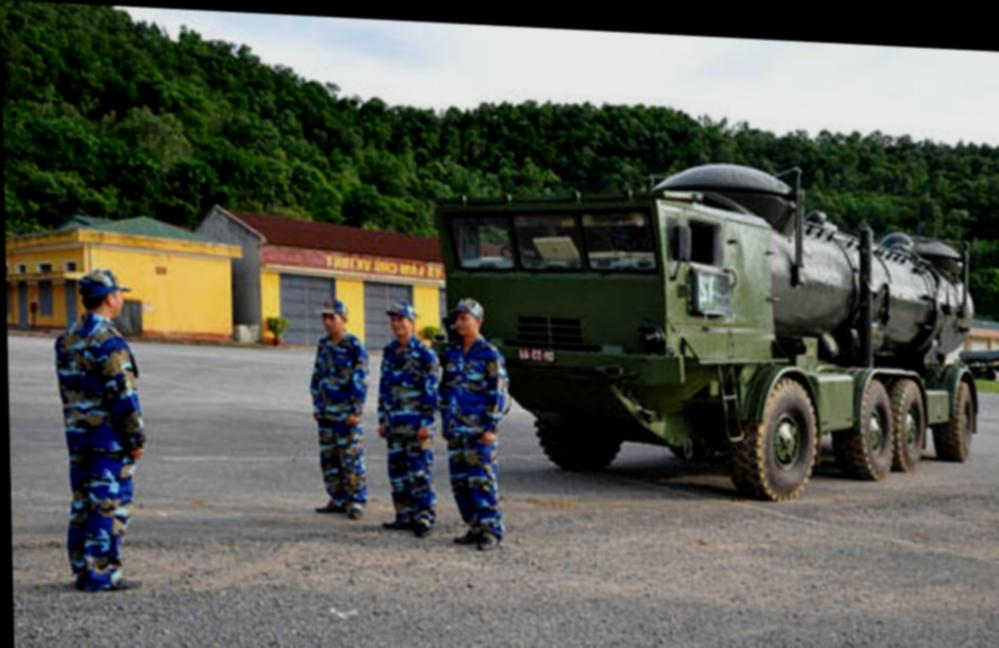License_Plate: (518, 344, 555, 365)
